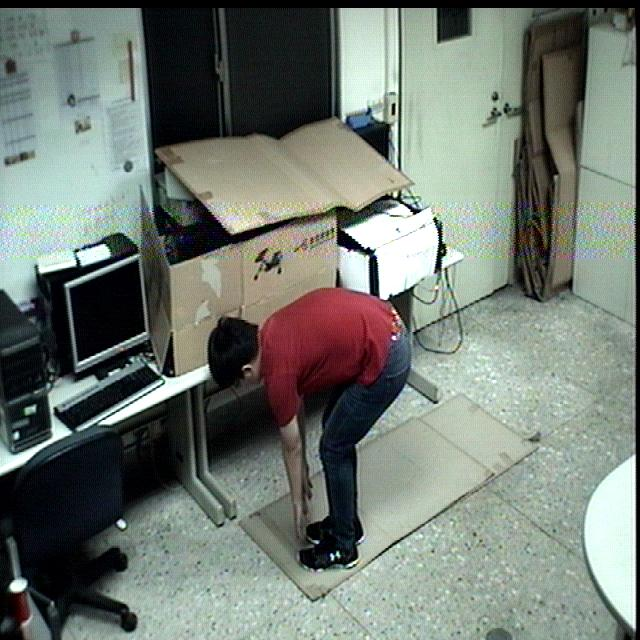bend: (207, 281, 416, 580)
